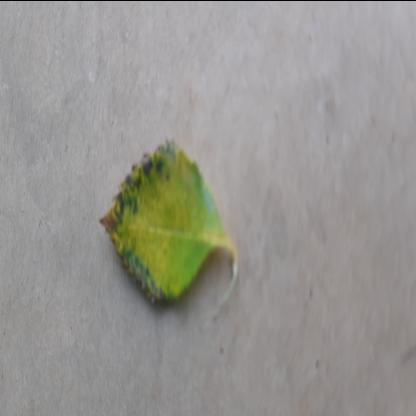black-spot: (97, 129, 223, 309)
